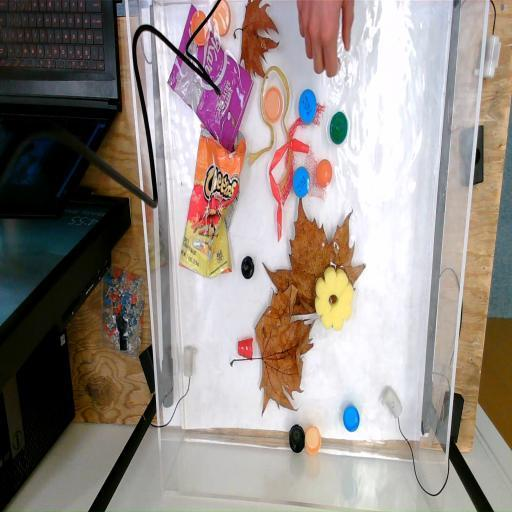Bottle Cap: (296, 86, 322, 124), (212, 0, 234, 42), (338, 402, 364, 437), (285, 421, 308, 457), (264, 82, 284, 122), (189, 12, 212, 46), (327, 110, 350, 144), (314, 156, 334, 190), (291, 166, 311, 198), (304, 423, 321, 457), (242, 254, 256, 280)
Cone Cap: (236, 340, 255, 360)
Leaf: (262, 194, 374, 332), (228, 284, 317, 416), (232, 0, 286, 82)
Netting: (273, 99, 328, 203)
Plastic Bag: (166, 0, 254, 154), (178, 125, 248, 276)
Plastic Strand: (252, 64, 300, 192), (264, 136, 312, 242)
Sponge: (314, 264, 362, 336)
